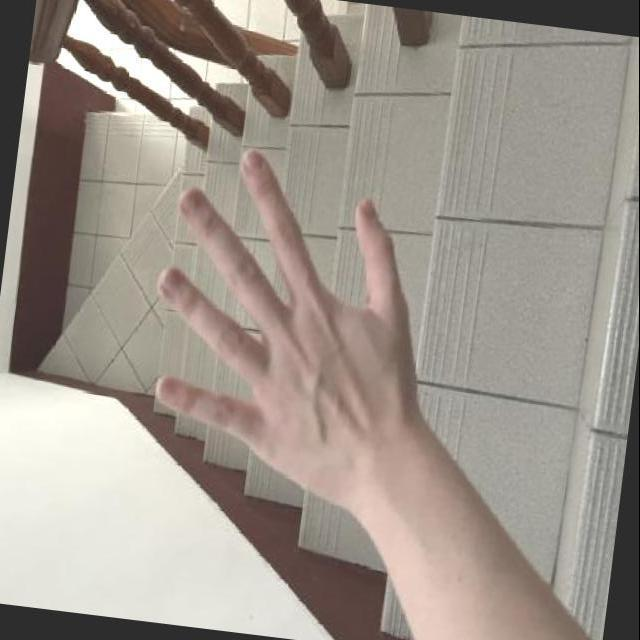hand: (115, 121, 456, 537)
